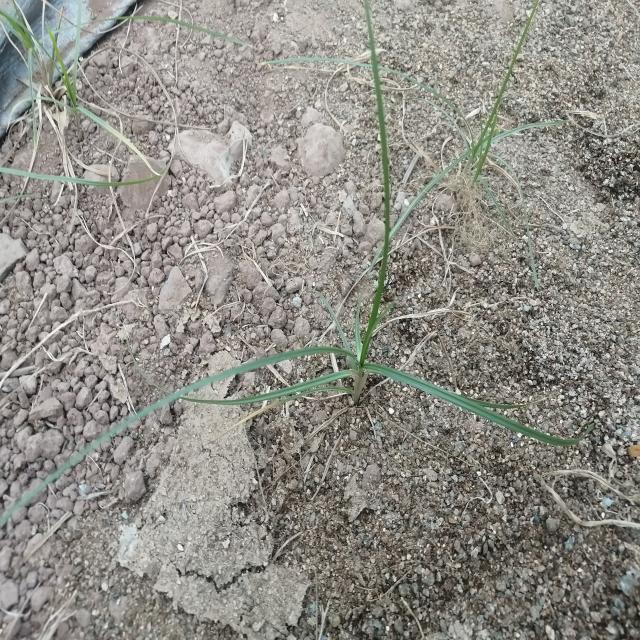sedge: (60, 118, 578, 478)
